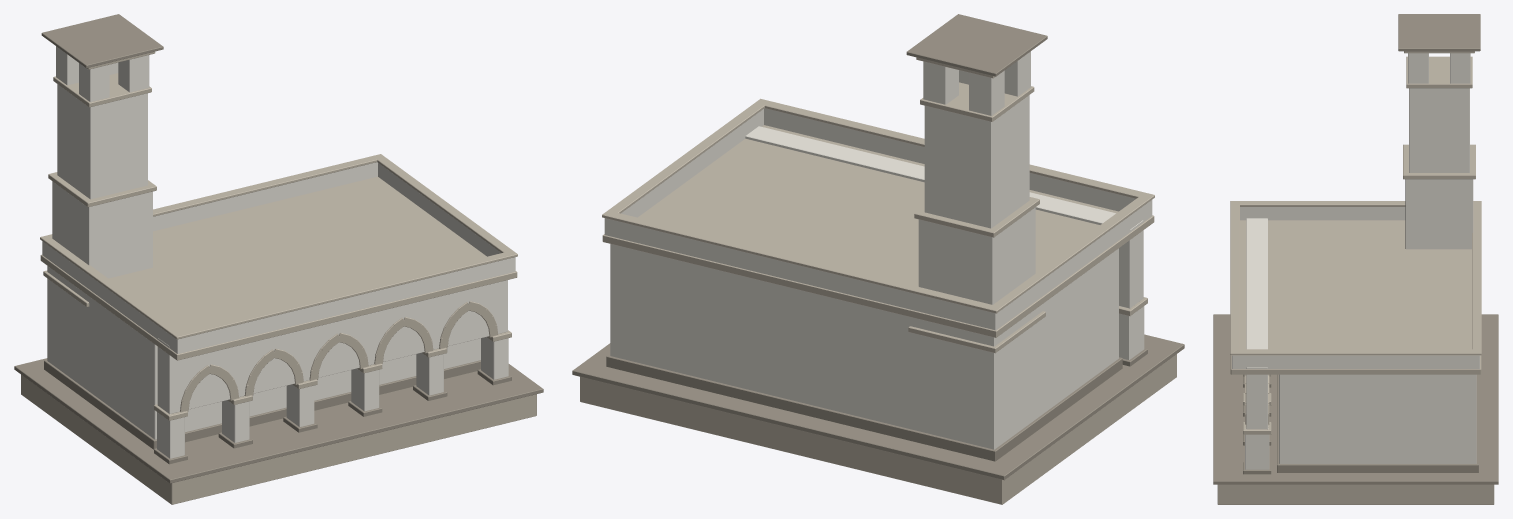
The model's file is TC_ENV_CivicHallSeafront_V1.gltf.
3 renders of one model, left to right at view 1: azimuth 30°, elevation 25°; view 2: azimuth 150°, elevation 25°; view 3: azimuth 270°, elevation 25°, orthographic. The views are drawn at different scales.
Visible parts, largest first — view 1: TC_ENV_CivicHallSeafront_V1; view 2: TC_ENV_CivicHallSeafront_V1; view 3: TC_ENV_CivicHallSeafront_V1.
Part boxes in pixels (left/top/right/bottom): TC_ENV_CivicHallSeafront_V1: left=14, top=14, right=543, bottom=504; TC_ENV_CivicHallSeafront_V1: left=572, top=14, right=1184, bottom=504; TC_ENV_CivicHallSeafront_V1: left=1213, top=14, right=1498, bottom=504.
Bounding box in the file's own units: 18 × 16.77 × 13.
